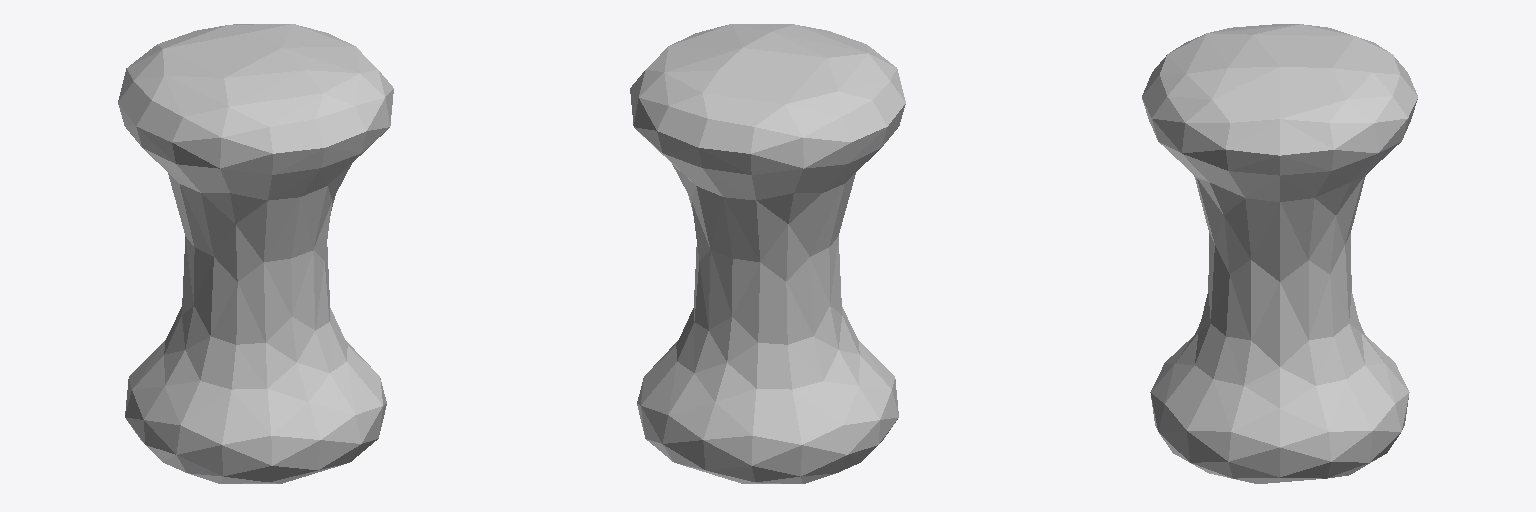
Rendered from pin.obj.
The picture shows the model from 3 angles: view 1: azimuth 30°, elevation 25°; view 2: azimuth 150°, elevation 25°; view 3: azimuth 270°, elevation 25°; orthographic projection.
Parts seen in each view (by area): view 1: Cube; view 2: Cube; view 3: Cube.
Boxes of the visible parts, x1,y1,x2,y2 form: Cube: [118, 24, 393, 483]; Cube: [630, 24, 905, 483]; Cube: [1142, 24, 1417, 483].
Size of the model in its own units: 1.62 by 2.6 by 1.62.